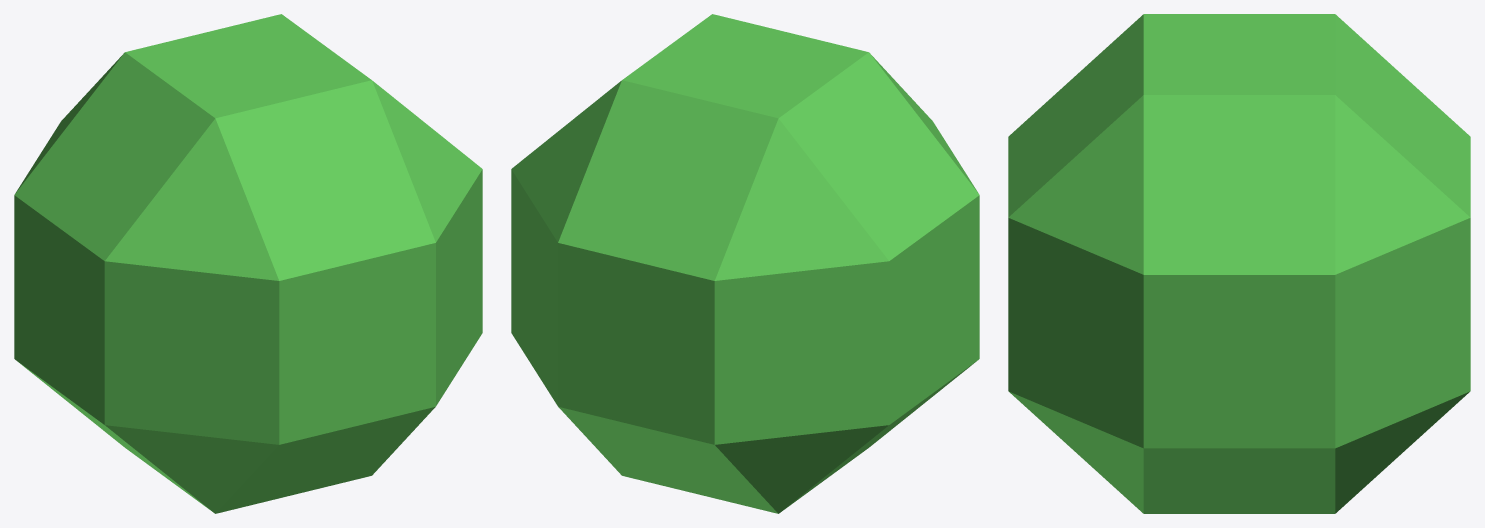
The model's file is fractalrhombicuboctahedron0.glb.
3 renders of one model, left to right at view 1: azimuth 30°, elevation 25°; view 2: azimuth 150°, elevation 25°; view 3: azimuth 270°, elevation 25°, orthographic. The views are drawn at different scales.
Bounding box in the file's own units: 10.12 × 10.12 × 10.12.
